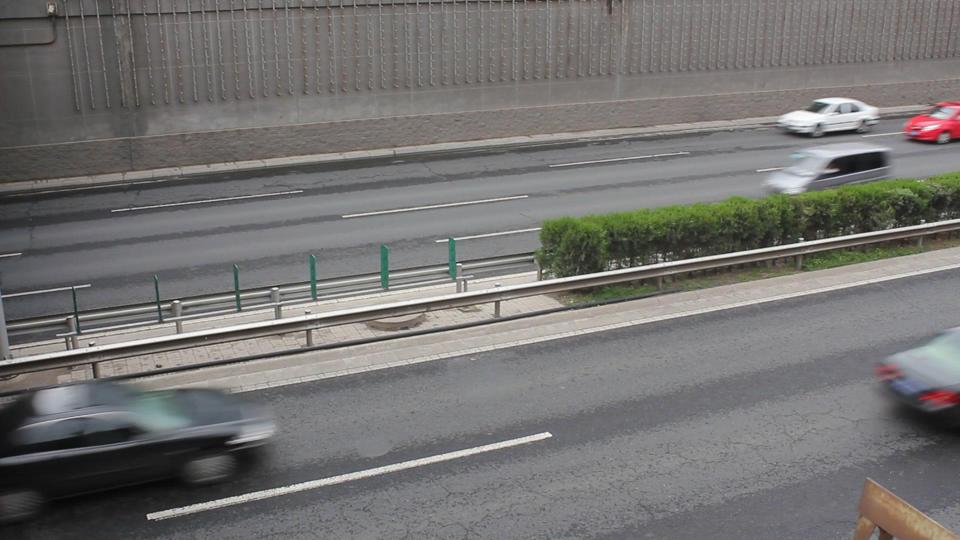car: (1, 380, 279, 521), (872, 326, 960, 429), (761, 141, 895, 196), (775, 97, 881, 138), (903, 102, 960, 144)
